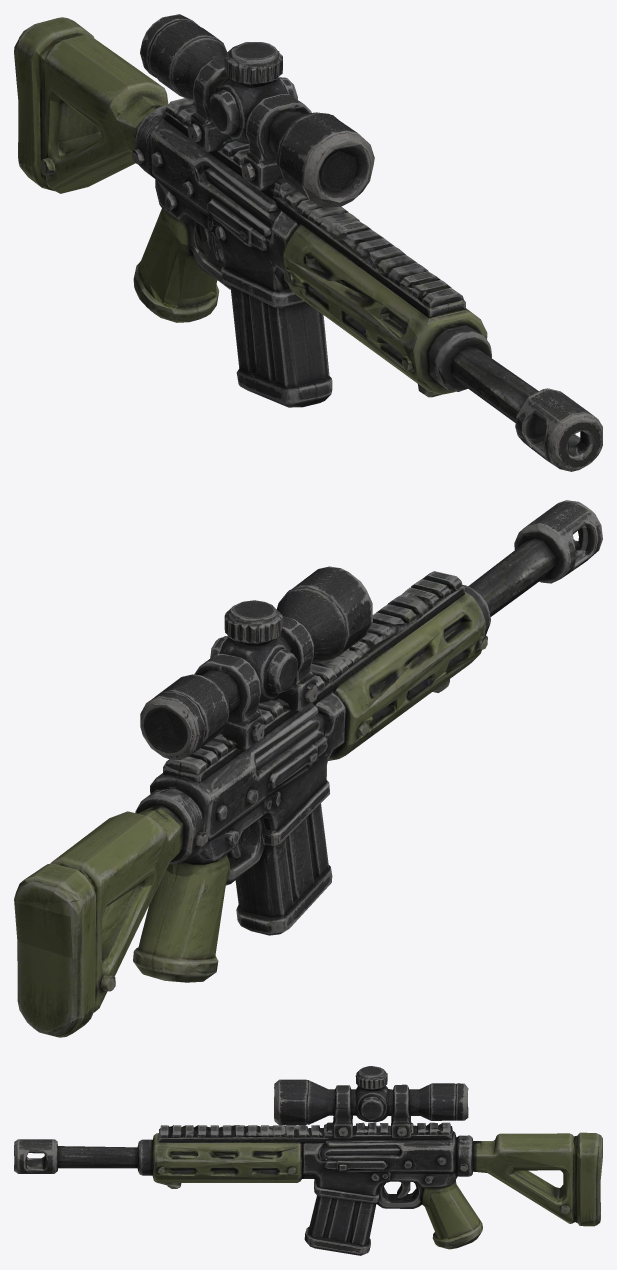
The model's file is gun_cannon.glb.
The picture shows the model from 3 angles, top to bottom: view 1: azimuth 30°, elevation 25°; view 2: azimuth 150°, elevation 25°; view 3: azimuth 270°, elevation 25°; orthographic projection. The views are drawn at different scales.
Bounding box in the file's own units: 0.1591 × 0.617 × 1.82.
Materials: 1 (1 with a texture image).
